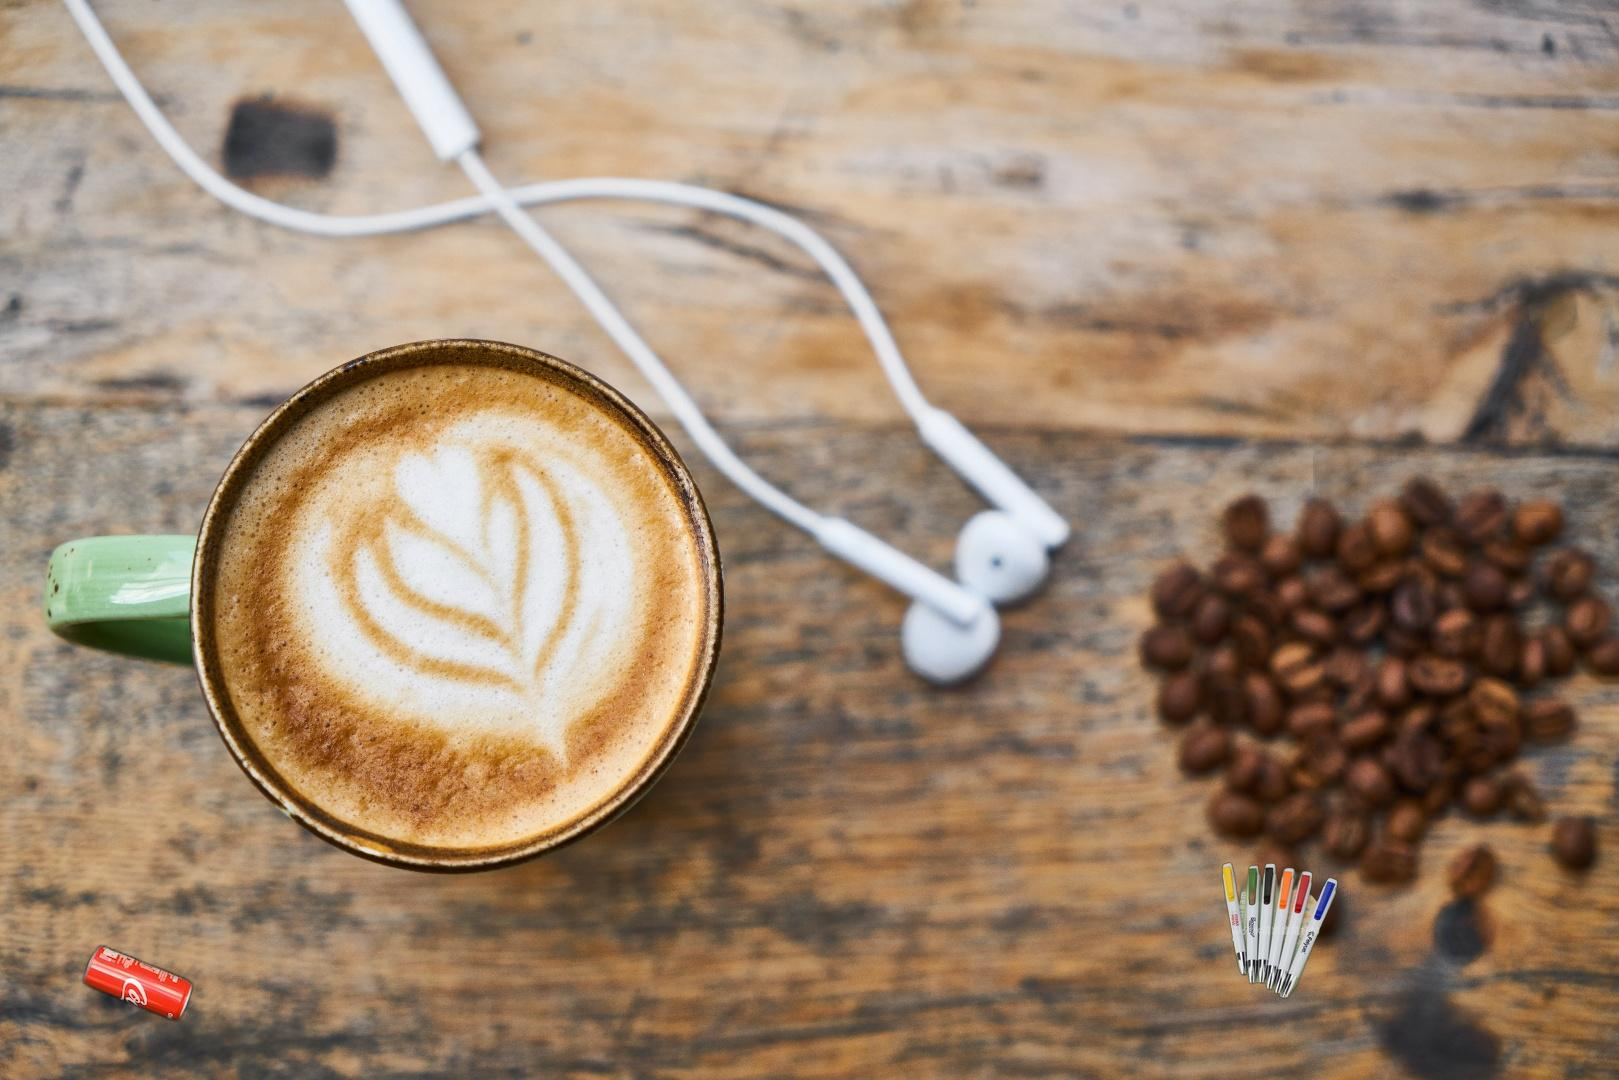metal-cans: (78, 939, 196, 1027)
paper: (1313, 215, 1619, 512)
penholder: (1219, 855, 1341, 1000)
